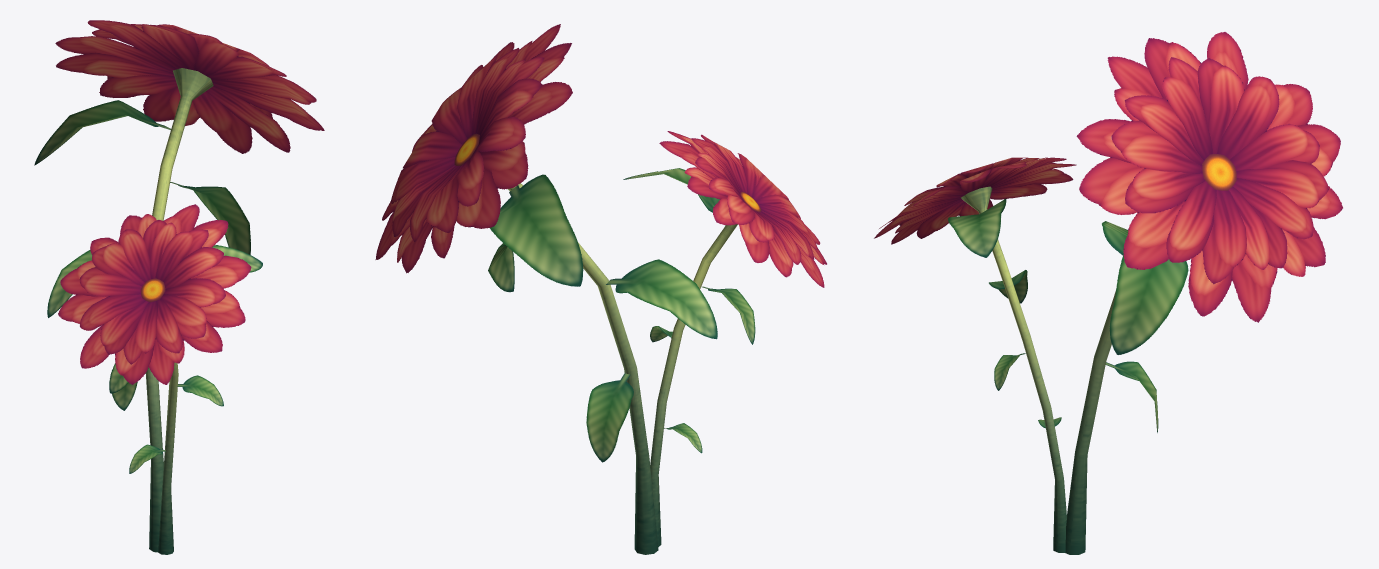
The model's file is ENV1110017.FBX.
The picture shows the model from 3 angles, left to right: view 1: azimuth 30°, elevation 25°; view 2: azimuth 150°, elevation 25°; view 3: azimuth 270°, elevation 25°; orthographic projection. The views are drawn at different scales.
Visible parts, largest first — view 1: smENV1110017; view 2: smENV1110017; view 3: smENV1110017.
Boxes of the visible parts, left/top/right/bottom form: smENV1110017: left=34, top=20, right=324, bottom=554; smENV1110017: left=375, top=24, right=826, bottom=554; smENV1110017: left=874, top=32, right=1342, bottom=554.
Bounding box in the file's own units: 9.74 × 14.12 × 11.91.
Materials: 1 (1 with a texture image).
